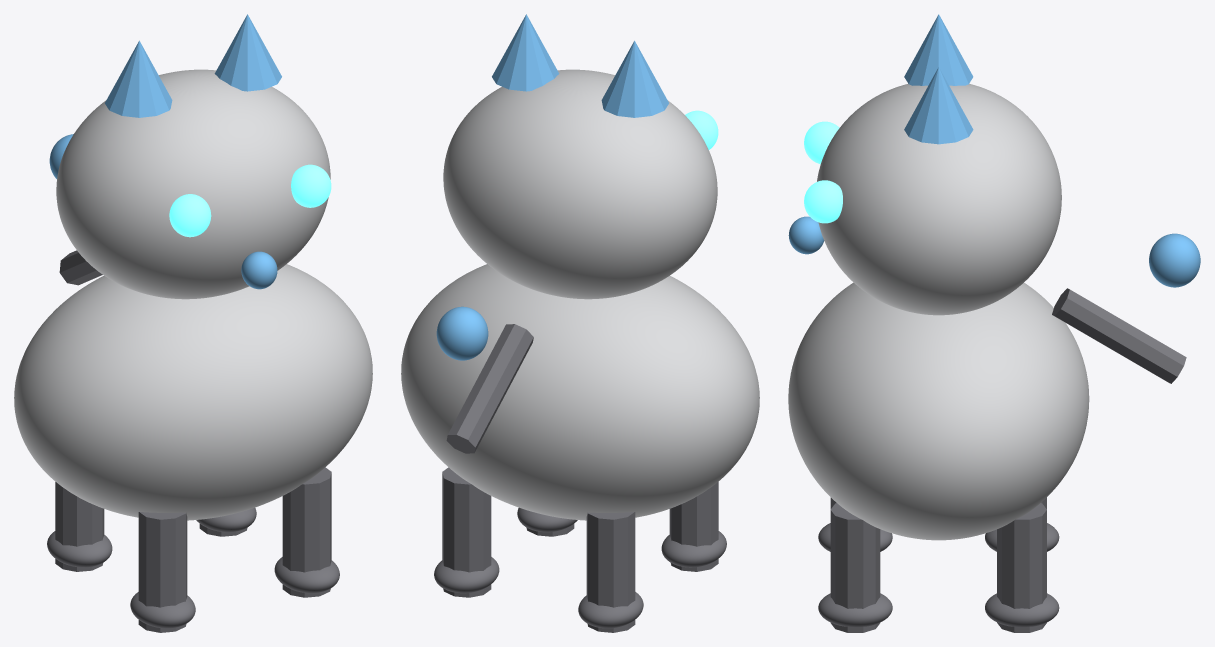
File: robot_pet.glb
3 views of the same model, side by side, from view 1: azimuth 30°, elevation 25°; view 2: azimuth 150°, elevation 25°; view 3: azimuth 270°, elevation 25° (orthographic).
Parts seen in each view (by area): view 1: RobotPet_Body, RobotPet_Head, RobotPet_Leg_0, RobotPet_Leg_1, RobotPet_Ear_0, RobotPet_Ear_1, RobotPet_Leg_2, RobotPet_Eye_0, RobotPet_Eye_1, RobotPet_Foot_0, RobotPet_Foot_2, RobotPet_Foot_1 (+3 smaller); view 2: RobotPet_Body, RobotPet_Head, RobotPet_Leg_2, RobotPet_Leg_3, RobotPet_Tail, RobotPet_Ear_0, RobotPet_Ear_1, RobotPet_Leg_0, RobotPet_TailTip, RobotPet_Foot_2, RobotPet_Foot_0, RobotPet_Foot_3 (+2 smaller); view 3: RobotPet_Body, RobotPet_Head, RobotPet_Leg_1, RobotPet_Leg_3, RobotPet_Tail, RobotPet_Ear_1, RobotPet_Ear_0, RobotPet_TailTip, RobotPet_Foot_1, RobotPet_Foot_3, RobotPet_Eye_1, RobotPet_Nose (+1 smaller).
Boxes of the visible parts, x1,y1,x2,y2 form: RobotPet_Body: [14, 264, 372, 520]; RobotPet_Head: [56, 69, 330, 299]; RobotPet_Leg_0: [138, 512, 187, 632]; RobotPet_Leg_1: [282, 467, 331, 597]; RobotPet_Ear_0: [105, 40, 172, 117]; RobotPet_Ear_1: [214, 14, 281, 91]; RobotPet_Leg_2: [55, 482, 104, 571]; RobotPet_Eye_0: [169, 194, 211, 237]; RobotPet_Eye_1: [291, 164, 331, 207]; RobotPet_Foot_0: [130, 592, 195, 628]; RobotPet_Foot_2: [47, 531, 112, 567]; RobotPet_Foot_1: [274, 557, 339, 593]; RobotPet_Body: [401, 264, 759, 520]; RobotPet_Head: [443, 69, 717, 299]; RobotPet_Leg_2: [586, 512, 635, 632]; RobotPet_Leg_3: [442, 467, 491, 597]; RobotPet_Tail: [446, 324, 533, 453]; RobotPet_Ear_0: [601, 40, 668, 117]; RobotPet_Ear_1: [492, 14, 559, 91]; RobotPet_Leg_0: [669, 482, 718, 571]; RobotPet_TailTip: [436, 306, 488, 360]; RobotPet_Foot_2: [578, 592, 643, 628]; RobotPet_Foot_0: [661, 531, 726, 567]; RobotPet_Foot_3: [434, 557, 499, 593]; RobotPet_Body: [788, 282, 1089, 540]; RobotPet_Head: [817, 83, 1061, 315]; RobotPet_Leg_1: [830, 503, 880, 632]; RobotPet_Leg_3: [997, 503, 1046, 632]; RobotPet_Tail: [1052, 288, 1186, 383]; RobotPet_Ear_1: [904, 67, 973, 144]; RobotPet_Ear_0: [904, 14, 973, 85]; RobotPet_TailTip: [1149, 233, 1200, 287]; RobotPet_Foot_1: [818, 593, 892, 627]; RobotPet_Foot_3: [985, 593, 1059, 627]; RobotPet_Eye_1: [804, 180, 842, 223]; RobotPet_Nose: [788, 216, 824, 254].
Size of the model in its own units: 0.271 by 0.435 by 0.297.
